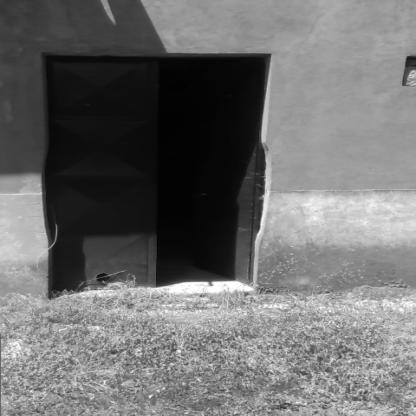open: (35, 39, 276, 303)
